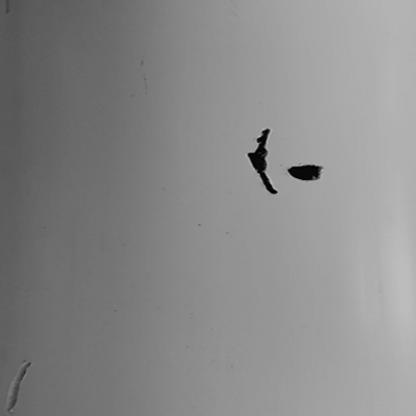kongdong: (243, 127, 279, 195), (286, 164, 326, 183)
sunshang: (5, 362, 38, 412)
